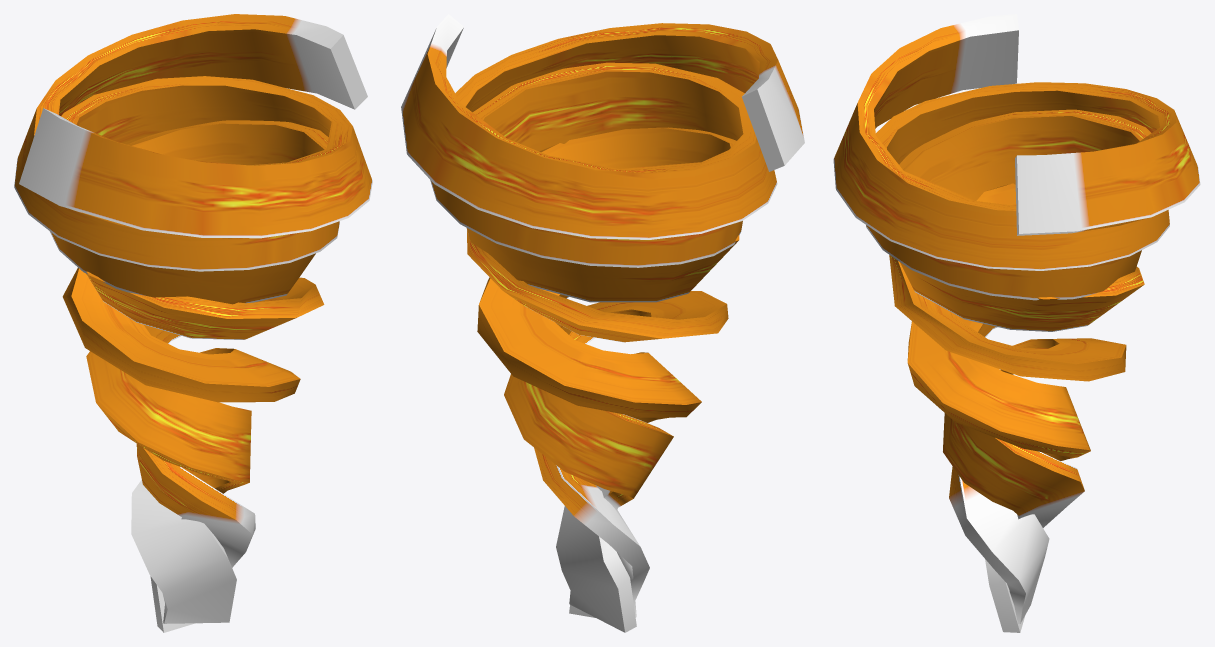
File: longjaun 1.FBX
The picture shows the model from 3 angles, left to right: view 1: azimuth 30°, elevation 25°; view 2: azimuth 150°, elevation 25°; view 3: azimuth 270°, elevation 25°; orthographic projection. The views are drawn at different scales.
Parts seen in each view (by area): view 1: Helix002; view 2: Helix002; view 3: Helix002.
Part boxes in pixels (bbox=[...]): Helix002: bbox=[14, 14, 372, 632]; Helix002: bbox=[401, 14, 804, 632]; Helix002: bbox=[833, 14, 1200, 632].
Bounding box in the file's own units: 2.24 × 3.36 × 2.1.
